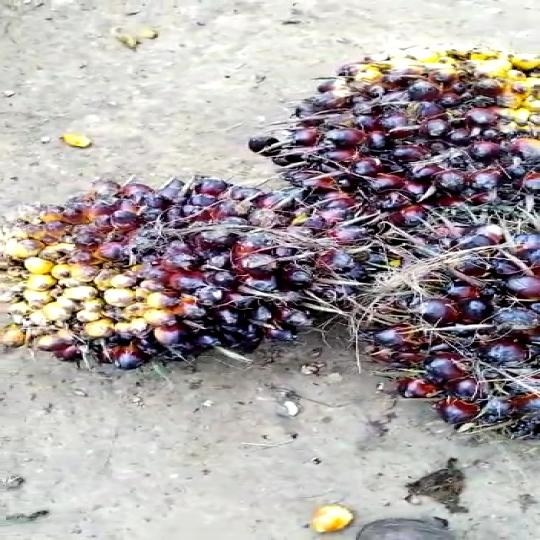kurang masak: (0, 171, 369, 375), (222, 40, 540, 234), (342, 207, 540, 448)
